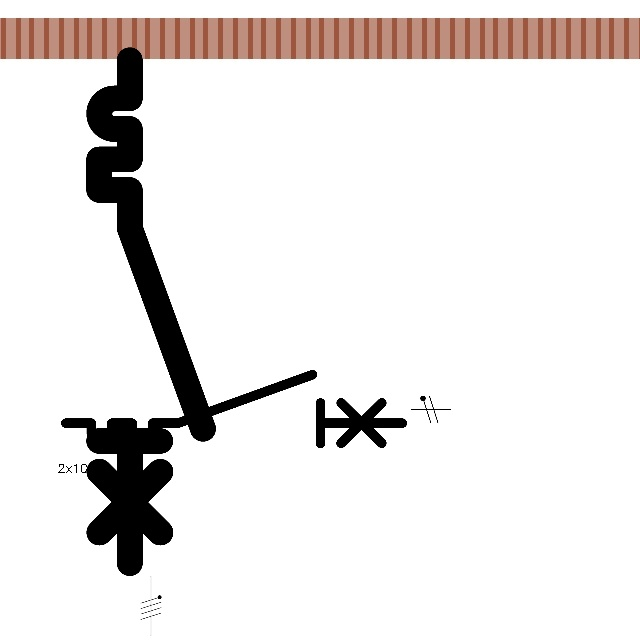interruptor_termomagnetico: (86, 47, 215, 576), (57, 366, 411, 452)
